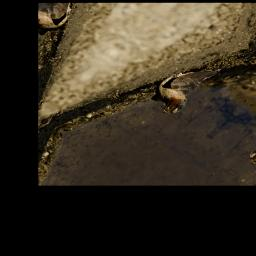Swallow: (139, 54, 223, 118)
